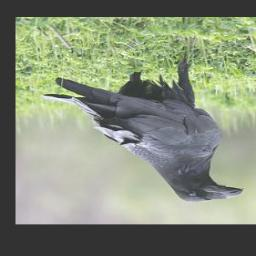Crow: (41, 51, 243, 203)
